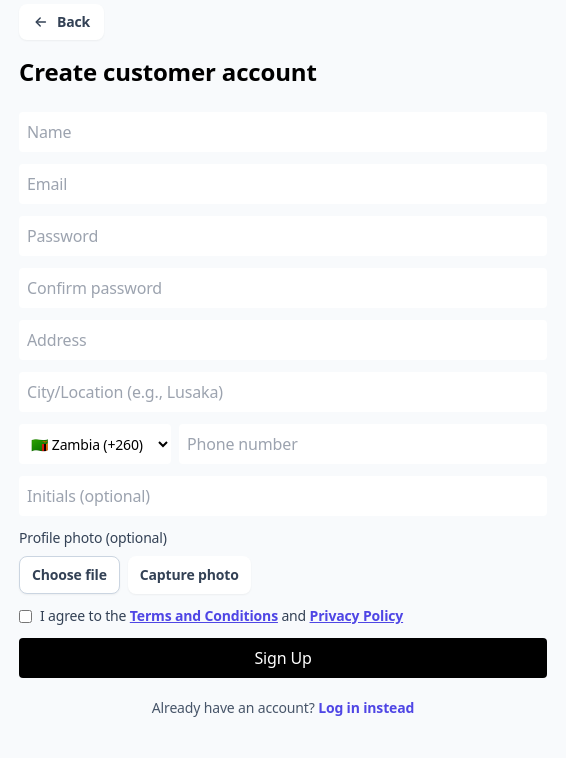
Test: Signing up as a shopper › passwords that do not match are caught
In the field labelled "Name": (283, 132) x1=19 y1=112 x2=547 y2=152, type "Chanda Banda"
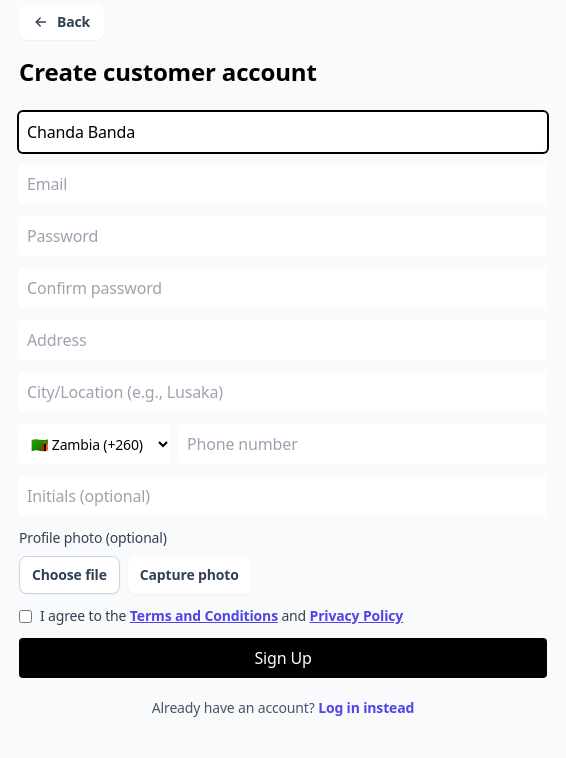
In the field labelled "Email": (283, 184) x1=19 y1=164 x2=547 y2=204, type "chanda@example.com"
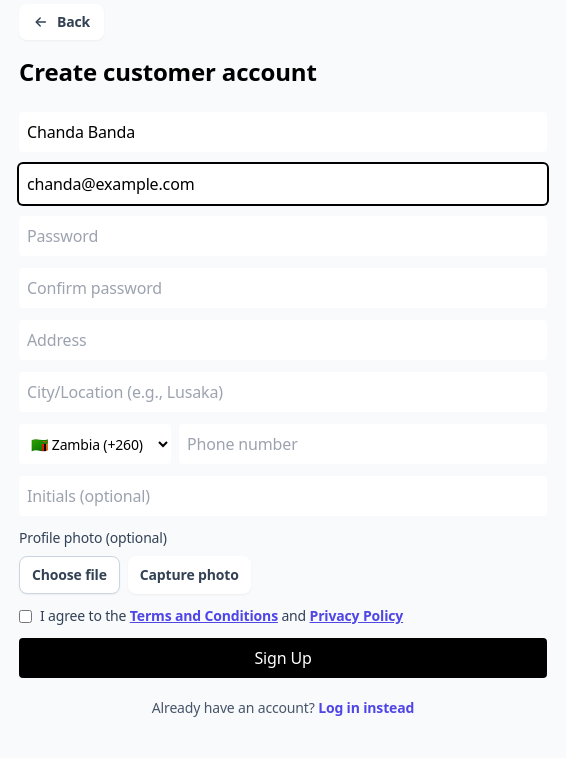
In the password field labelled "Password": (283, 236) x1=19 y1=216 x2=547 y2=256, type "Secret123"
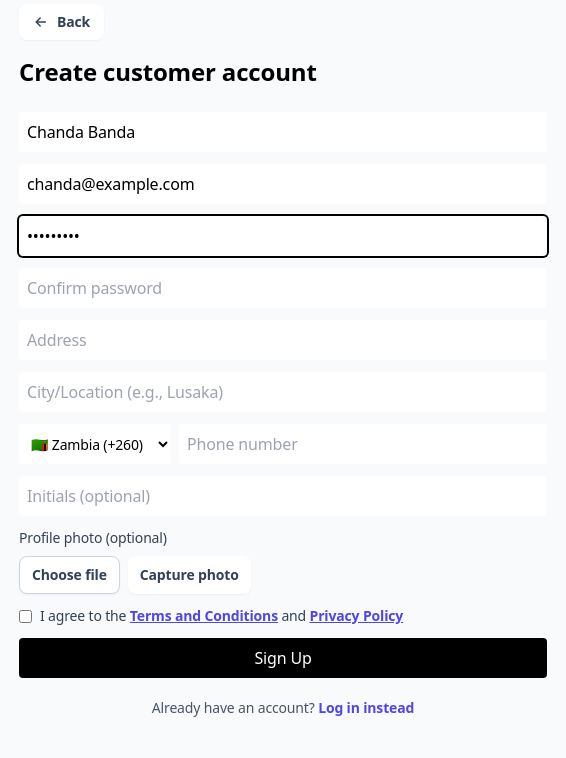
In the password field labelled "Confirm password": (283, 288) x1=19 y1=268 x2=547 y2=308, type "Different1"
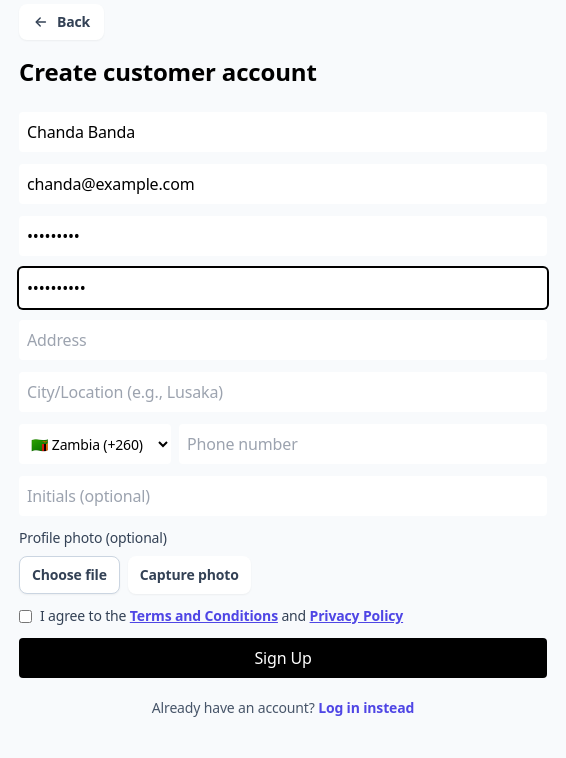
Click the checkbox: (26, 616) x1=19 y1=610 x2=32 y2=623
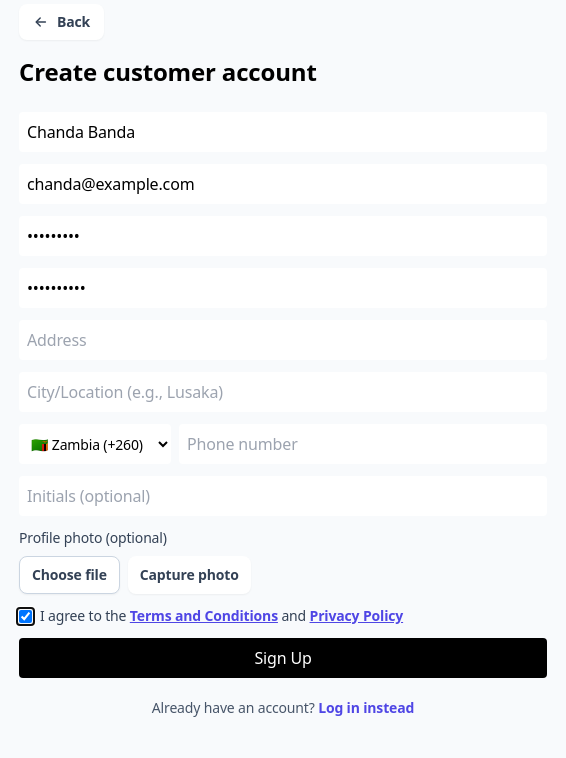
Click the button "Sign Up": (283, 658) x1=19 y1=638 x2=547 y2=678
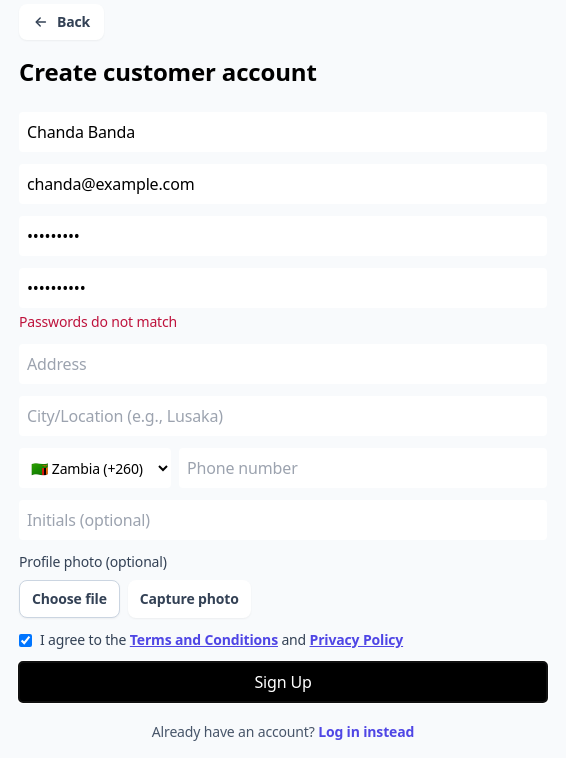
Expected: the text "Passwords do not match" is shown, x1=19 y1=312 x2=177 y2=331
